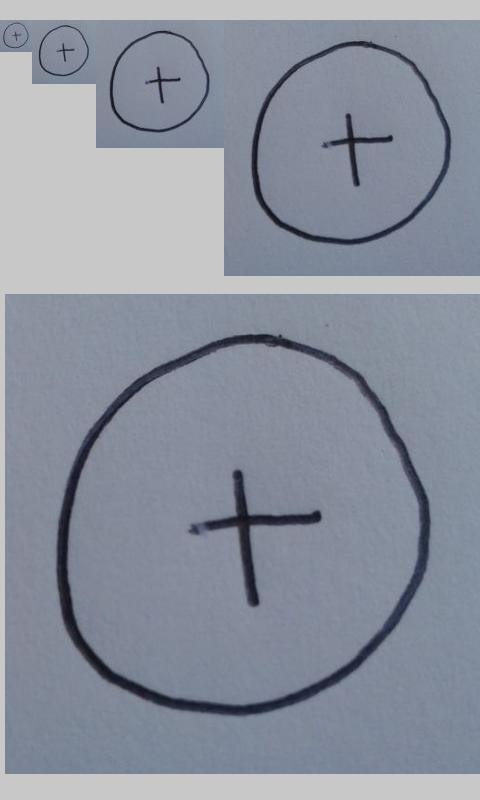button: (55, 333, 432, 719), (251, 39, 452, 246), (109, 29, 211, 133), (38, 24, 90, 77), (2, 22, 29, 49)
